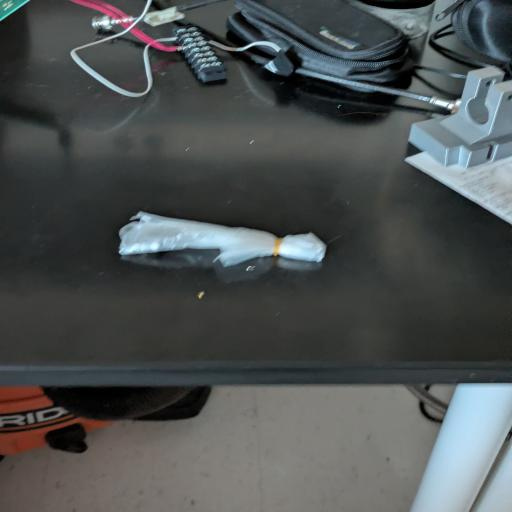rubberband: (116, 210, 330, 268)
